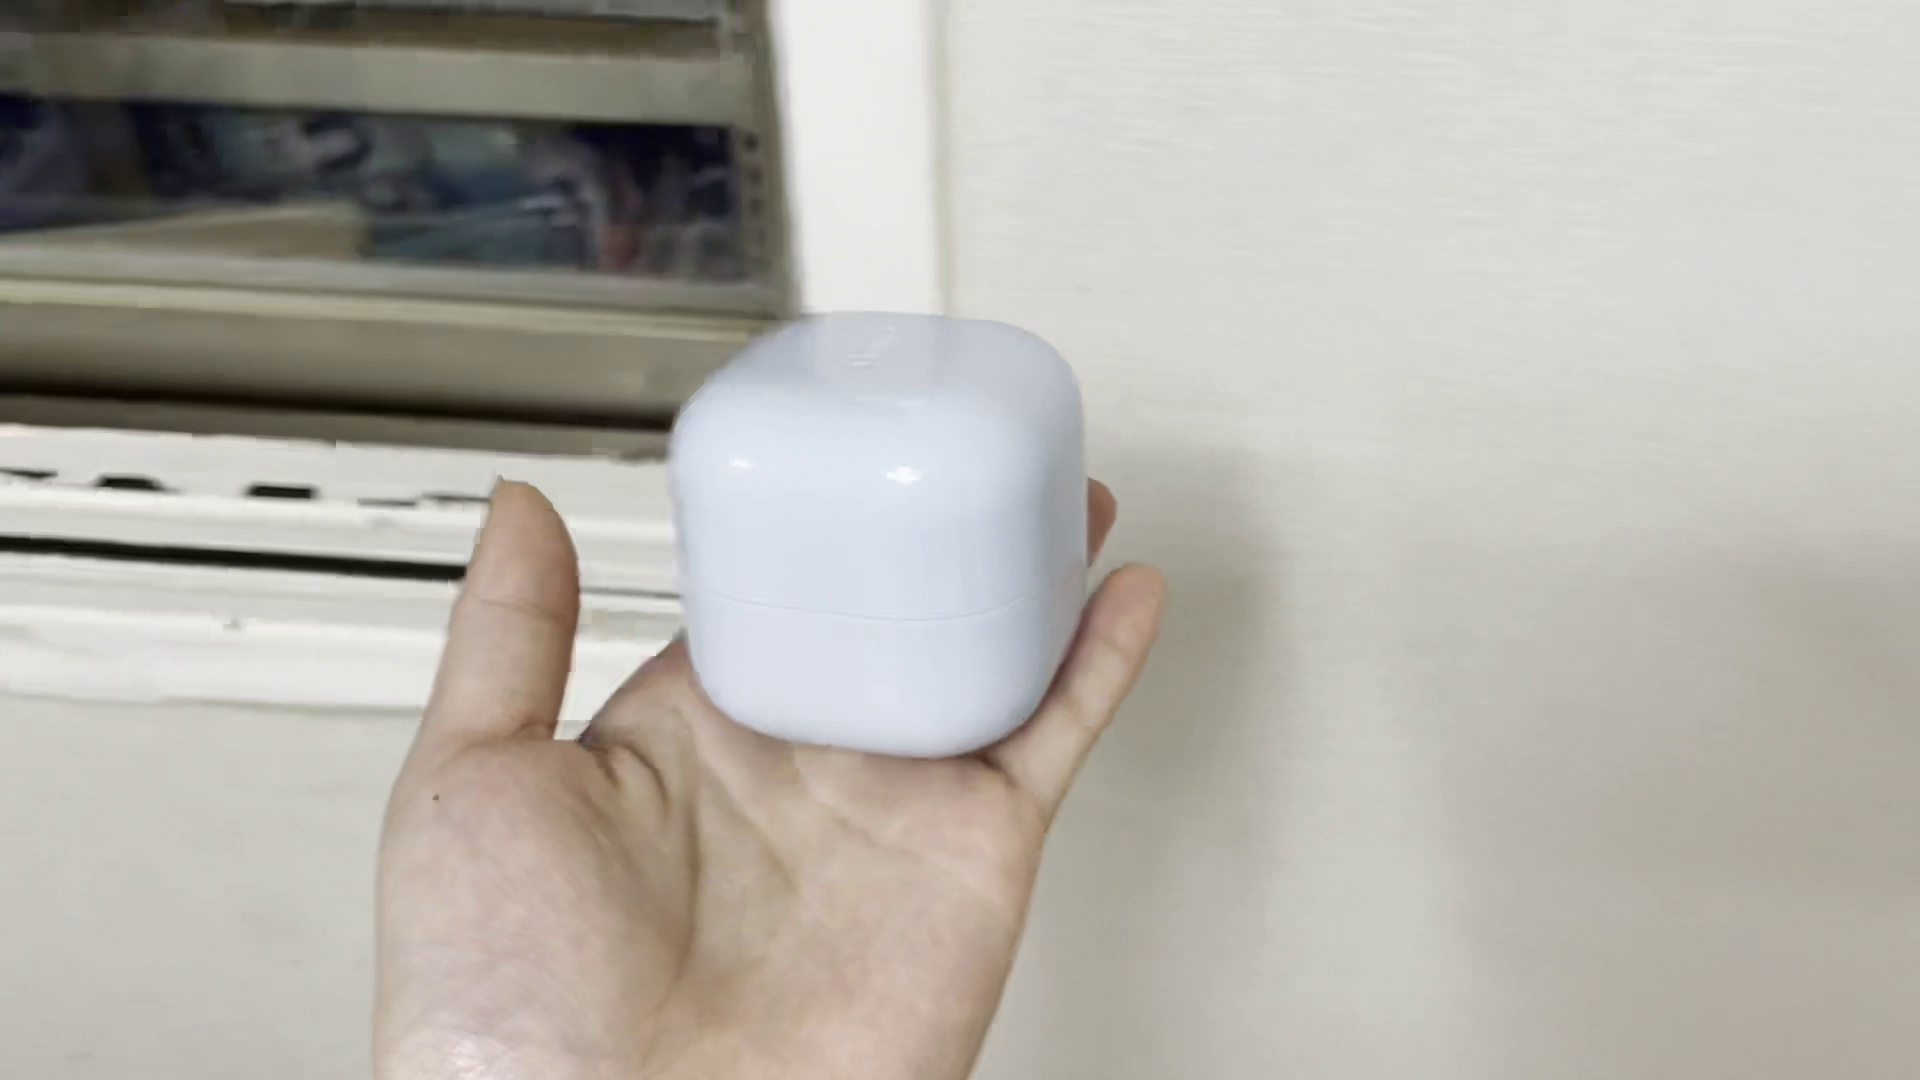cream: (683, 313, 1085, 758)
